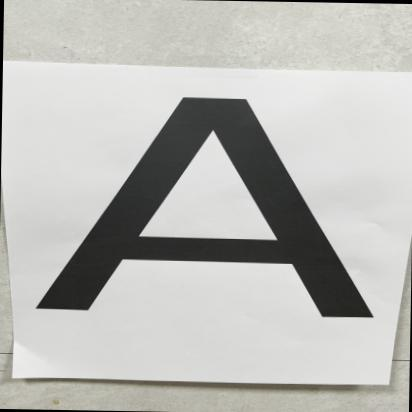seat: (40, 77, 371, 337)
